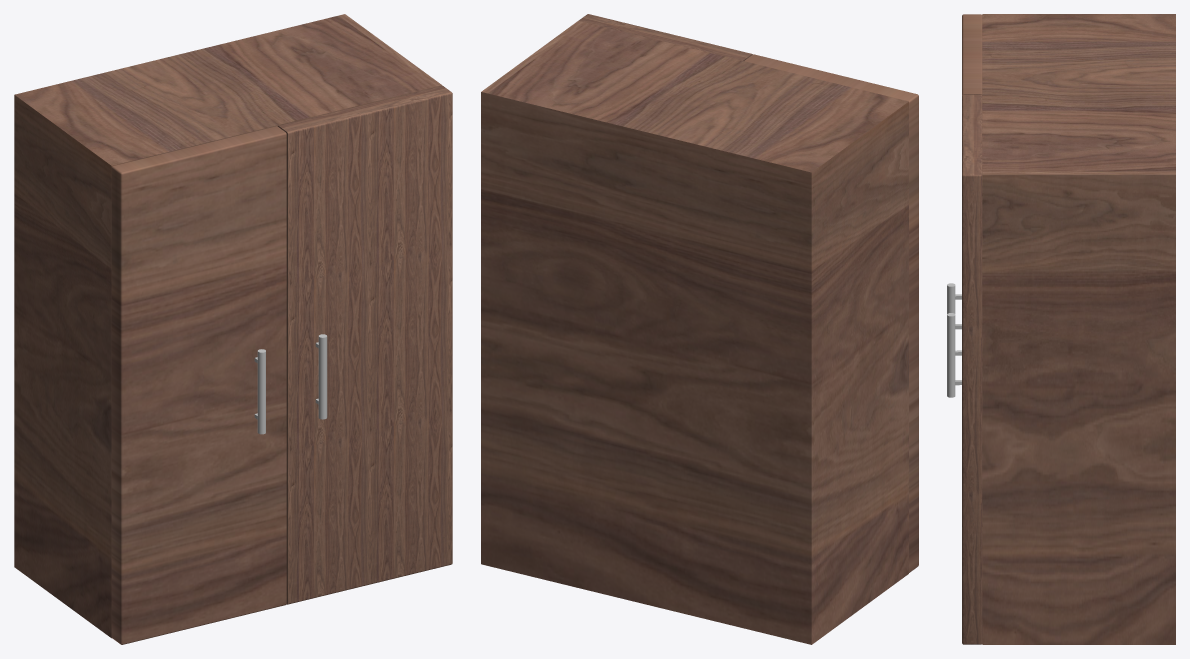
Rendered from chemical_cupboard.fbx.
The picture shows the model from 3 angles, left to right: view 1: azimuth 30°, elevation 25°; view 2: azimuth 150°, elevation 25°; view 3: azimuth 270°, elevation 25°; orthographic projection.
Parts seen in each view (by area): view 1: cupboard door1, cupboard door 2, cupboardbody, handle2, handle; view 2: cupboardbody, cupboard door1, cupboard door 2; view 3: cupboardbody, cupboard door 2, cupboard door1, handle2, handle.
Boxes of the visible parts, box(x1,y1,x2,y2) form: cupboard door1: box(111, 126, 286, 644); cupboard door 2: box(277, 85, 452, 604); cupboardbody: box(14, 14, 442, 638); handle2: box(315, 334, 327, 419); handle: box(254, 349, 265, 434); cupboardbody: box(481, 21, 908, 644); cupboard door1: box(744, 54, 918, 572); cupboard door 2: box(578, 14, 752, 60); cupboardbody: box(982, 14, 1175, 644); cupboard door 2: box(962, 94, 982, 644); cupboard door1: box(962, 14, 982, 95); handle2: box(947, 313, 961, 397); handle: box(947, 283, 961, 355).
Bounding box in the file's own units: 189 × 257 × 113.
